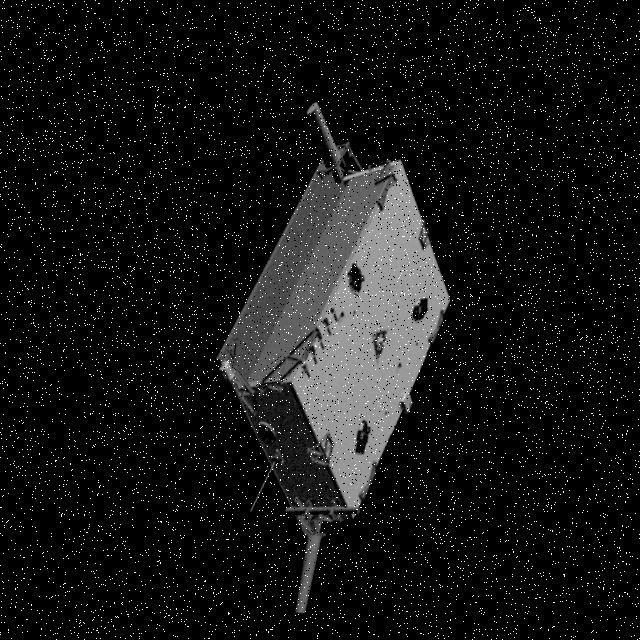medium_debris: (214, 96, 468, 622)
